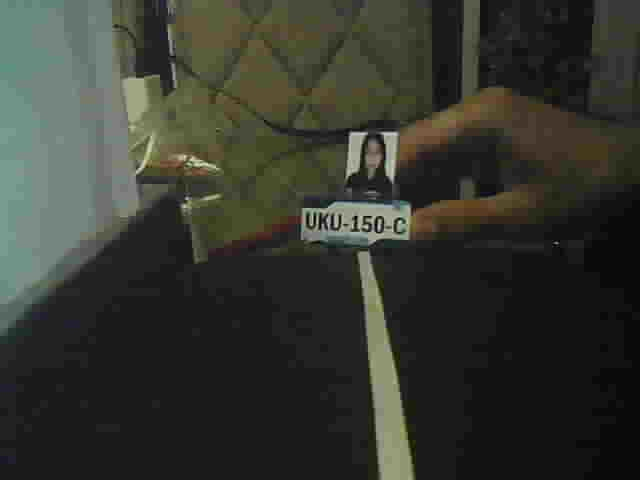PLACA: (294, 198, 414, 247)
ROSTRO: (346, 128, 395, 193)
